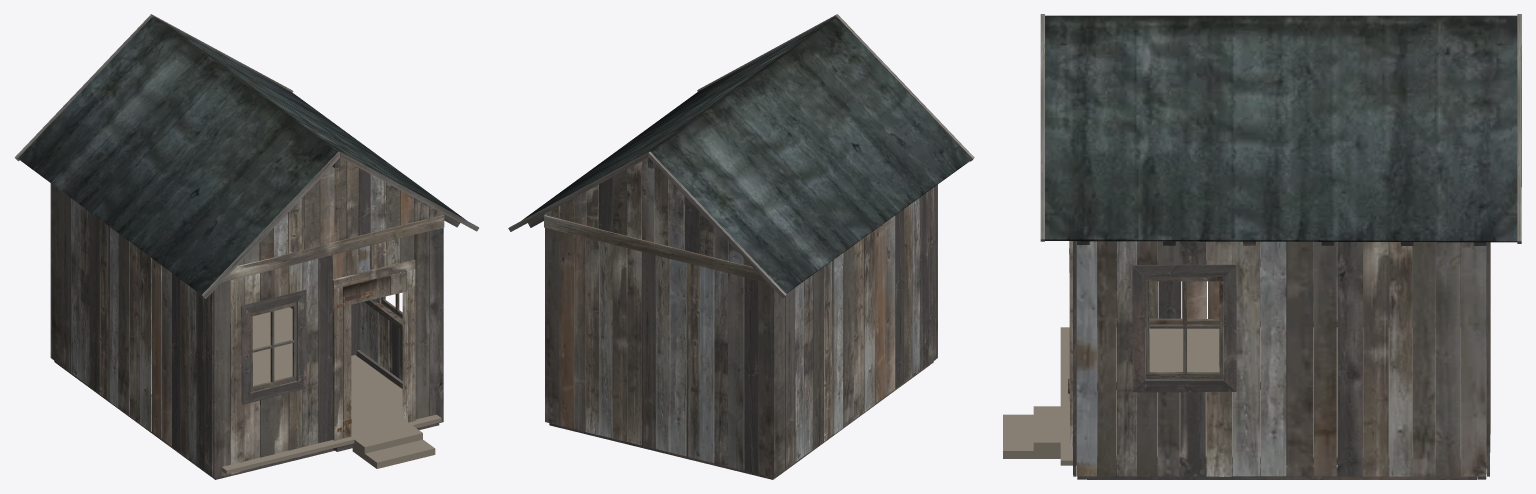
File: cabin.walls-v2.lod0.glb
3 renders of one model, left to right at view 1: azimuth 30°, elevation 25°; view 2: azimuth 150°, elevation 25°; view 3: azimuth 270°, elevation 25°, orthographic. The views are drawn at different scales.
Visible parts, largest first — view 1: Base_PBR_0, Walkable floors and stairs; view 2: Base_PBR_0; view 3: Base_PBR_0, Walkable floors and stairs.
Boxes of the visible parts, <box> form: Base_PBR_0: <box>14,14,478,479</box>; Walkable floors and stairs: <box>221,307,441,474</box>; Base_PBR_0: <box>508,14,974,479</box>; Base_PBR_0: <box>1040,14,1521,479</box>; Walkable floors and stairs: <box>1003,327,1460,465</box>.
Bounding box in the file's own units: 7.62 × 8.16 × 9.7.
2 materials, 1 textured.
